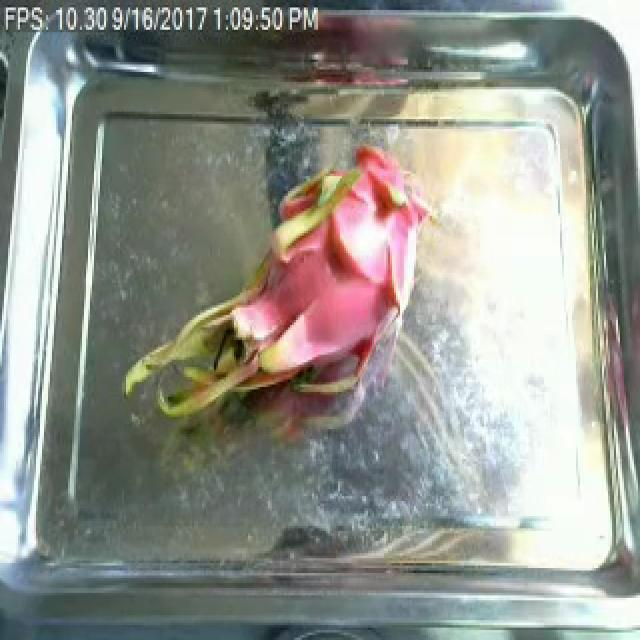fruit: (110, 121, 426, 466)
